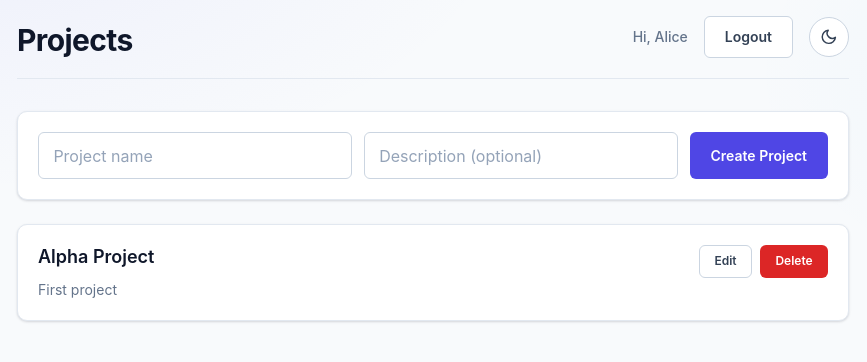
Test case: Projects page › deletes a project after confirmation and reloads
Click the button "Delete" at (794, 262), box 760,245 -> 828,278
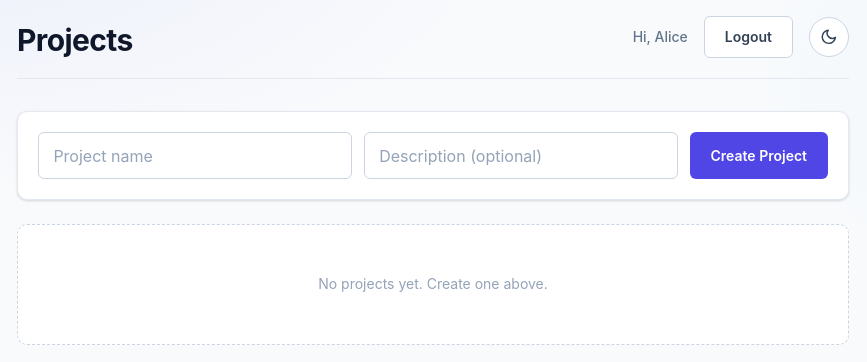
Expected: the text "No projects yet. Create one above." is shown, 17,224 -> 849,344
